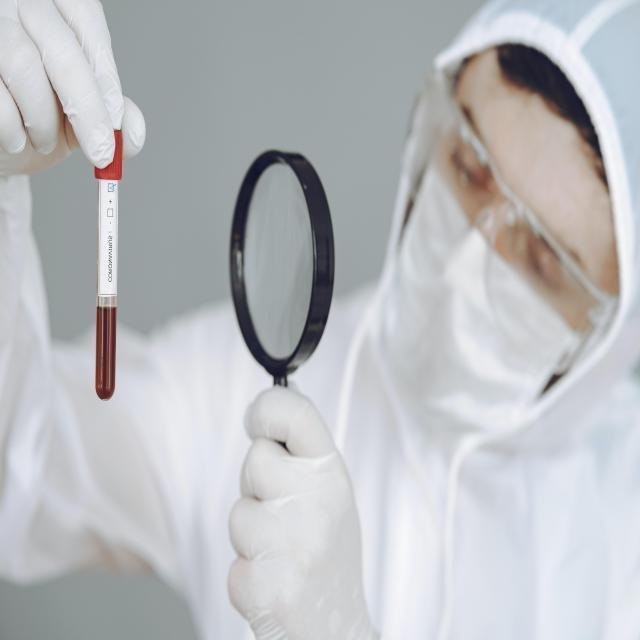gloves: (212, 380, 374, 640), (0, 1, 150, 170)
